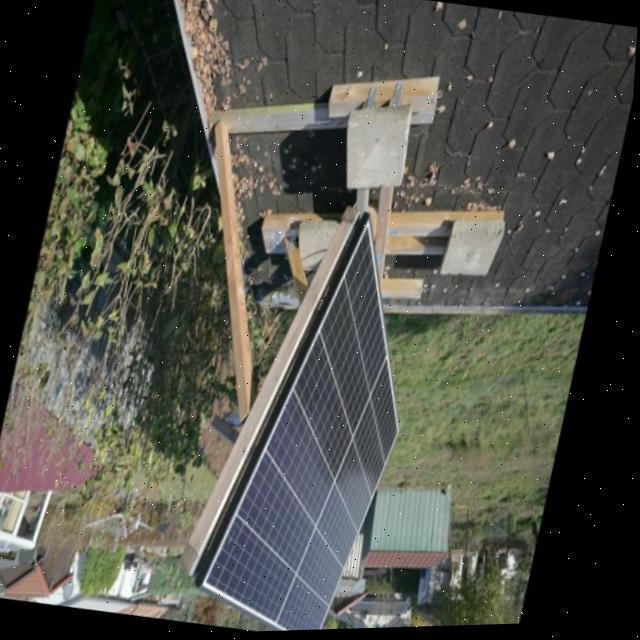Normal Solar Panel: (202, 210, 445, 634)
